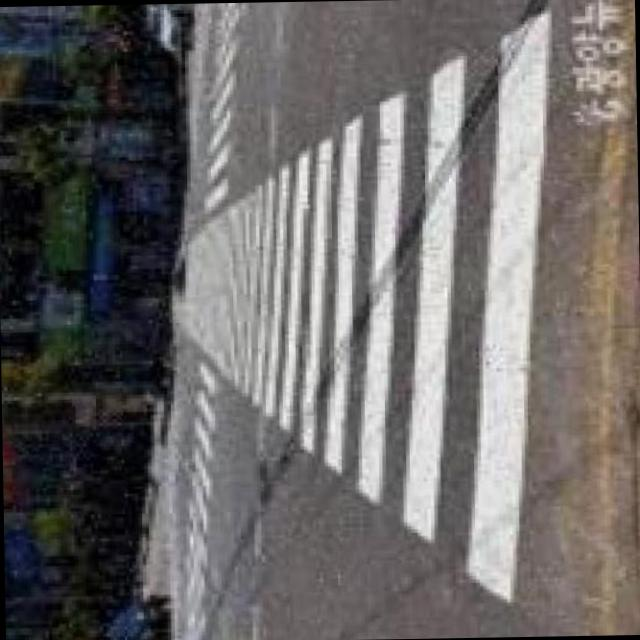zebra: (167, 16, 555, 607)
